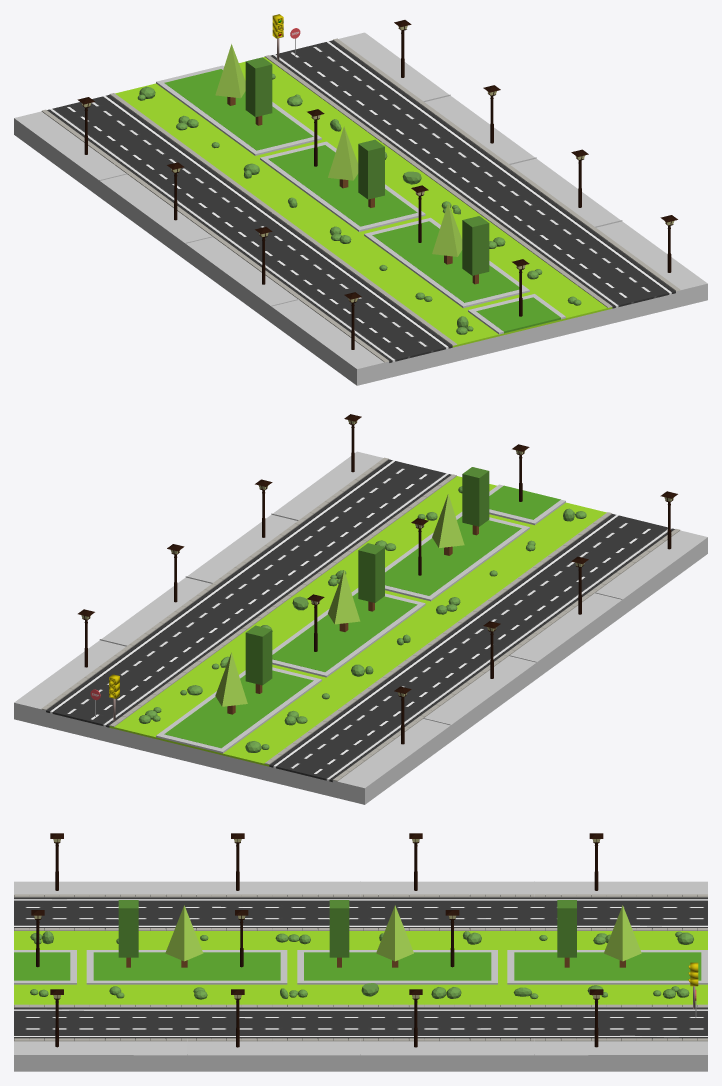
Rendered from D1_STREET.fbx.
The picture shows the model from 3 angles, top to bottom: view 1: azimuth 30°, elevation 25°; view 2: azimuth 150°, elevation 25°; view 3: azimuth 270°, elevation 25°; orthographic projection.
Visible parts, largest first — view 1: D1_SIGNAGE.038, D1_SIGNAGE.015, D1_SIGNAGE.016, D1_SIGNAGE, D1_SIGNAGE.014, D1_SIGNAGE.013, D1_SIGNAGE.021, D1_SIGNAGE.039, D1_SIGNAGE.022, D1_SIGNAGE.028, D1_SIGNAGE.027, D1_SIGNAGE.026 (+5 smaller); view 2: D1_SIGNAGE.038, D1_SIGNAGE.015, D1_SIGNAGE.016, D1_SIGNAGE, D1_SIGNAGE.014, D1_SIGNAGE.013, D1_SIGNAGE.021, D1_SIGNAGE.022, D1_SIGNAGE.039, D1_SIGNAGE.028, D1_SIGNAGE.027, D1_SIGNAGE.026 (+5 smaller); view 3: D1_SIGNAGE.038, D1_SIGNAGE.015, D1_SIGNAGE.016, D1_SIGNAGE, D1_SIGNAGE.013, D1_SIGNAGE.014, D1_SIGNAGE.039, D1_SIGNAGE.022, D1_SIGNAGE.021, D1_SIGNAGE.028, D1_SIGNAGE.027, D1_SIGNAGE.026 (+5 smaller).
Boxes of the visible parts, x1,y1,x2,y2 form: D1_SIGNAGE.038: (115, 57, 612, 347); D1_SIGNAGE.015: (270, 40, 675, 308); D1_SIGNAGE.016: (47, 95, 452, 362); D1_SIGNAGE: (14, 120, 707, 385); D1_SIGNAGE.014: (14, 111, 388, 370); D1_SIGNAGE.013: (338, 32, 707, 292); D1_SIGNAGE.021: (156, 65, 321, 155); D1_SIGNAGE.039: (364, 217, 529, 308); D1_SIGNAGE.022: (260, 141, 425, 231); D1_SIGNAGE.028: (245, 57, 489, 275); D1_SIGNAGE.027: (215, 44, 462, 256); D1_SIGNAGE.026: (137, 73, 581, 334); D1_SIGNAGE.038: (109, 476, 606, 766); D1_SIGNAGE.015: (46, 459, 451, 727); D1_SIGNAGE.016: (269, 514, 674, 782); D1_SIGNAGE: (14, 539, 707, 804); D1_SIGNAGE.014: (333, 530, 707, 789); D1_SIGNAGE.013: (14, 451, 383, 711); D1_SIGNAGE.021: (156, 667, 321, 753); D1_SIGNAGE.022: (272, 588, 425, 677); D1_SIGNAGE.039: (385, 512, 529, 601); D1_SIGNAGE.028: (245, 467, 489, 685); D1_SIGNAGE.027: (215, 494, 464, 706); D1_SIGNAGE.026: (138, 486, 586, 752); D1_SIGNAGE.038: (14, 931, 707, 1004); D1_SIGNAGE.015: (14, 1007, 707, 1038); D1_SIGNAGE.016: (14, 897, 707, 928); D1_SIGNAGE: (14, 1056, 707, 1071); D1_SIGNAGE.013: (14, 1038, 707, 1056); D1_SIGNAGE.014: (14, 881, 707, 896); D1_SIGNAGE.039: (86, 950, 287, 984); D1_SIGNAGE.022: (297, 950, 497, 984); D1_SIGNAGE.021: (507, 950, 707, 984); D1_SIGNAGE.028: (118, 900, 576, 957); D1_SIGNAGE.027: (165, 905, 641, 961); D1_SIGNAGE.026: (30, 931, 693, 999).
Size of the model in its own units: 3560 by 776 by 6028.
18 materials, 2 textured.
